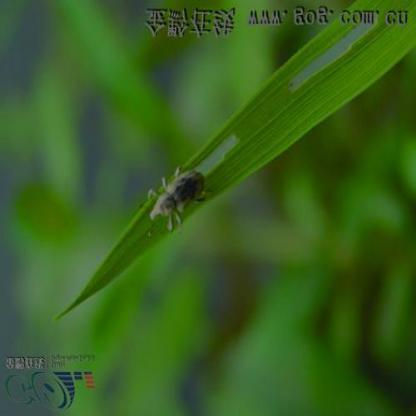rice-bug: (150, 166, 204, 224)
